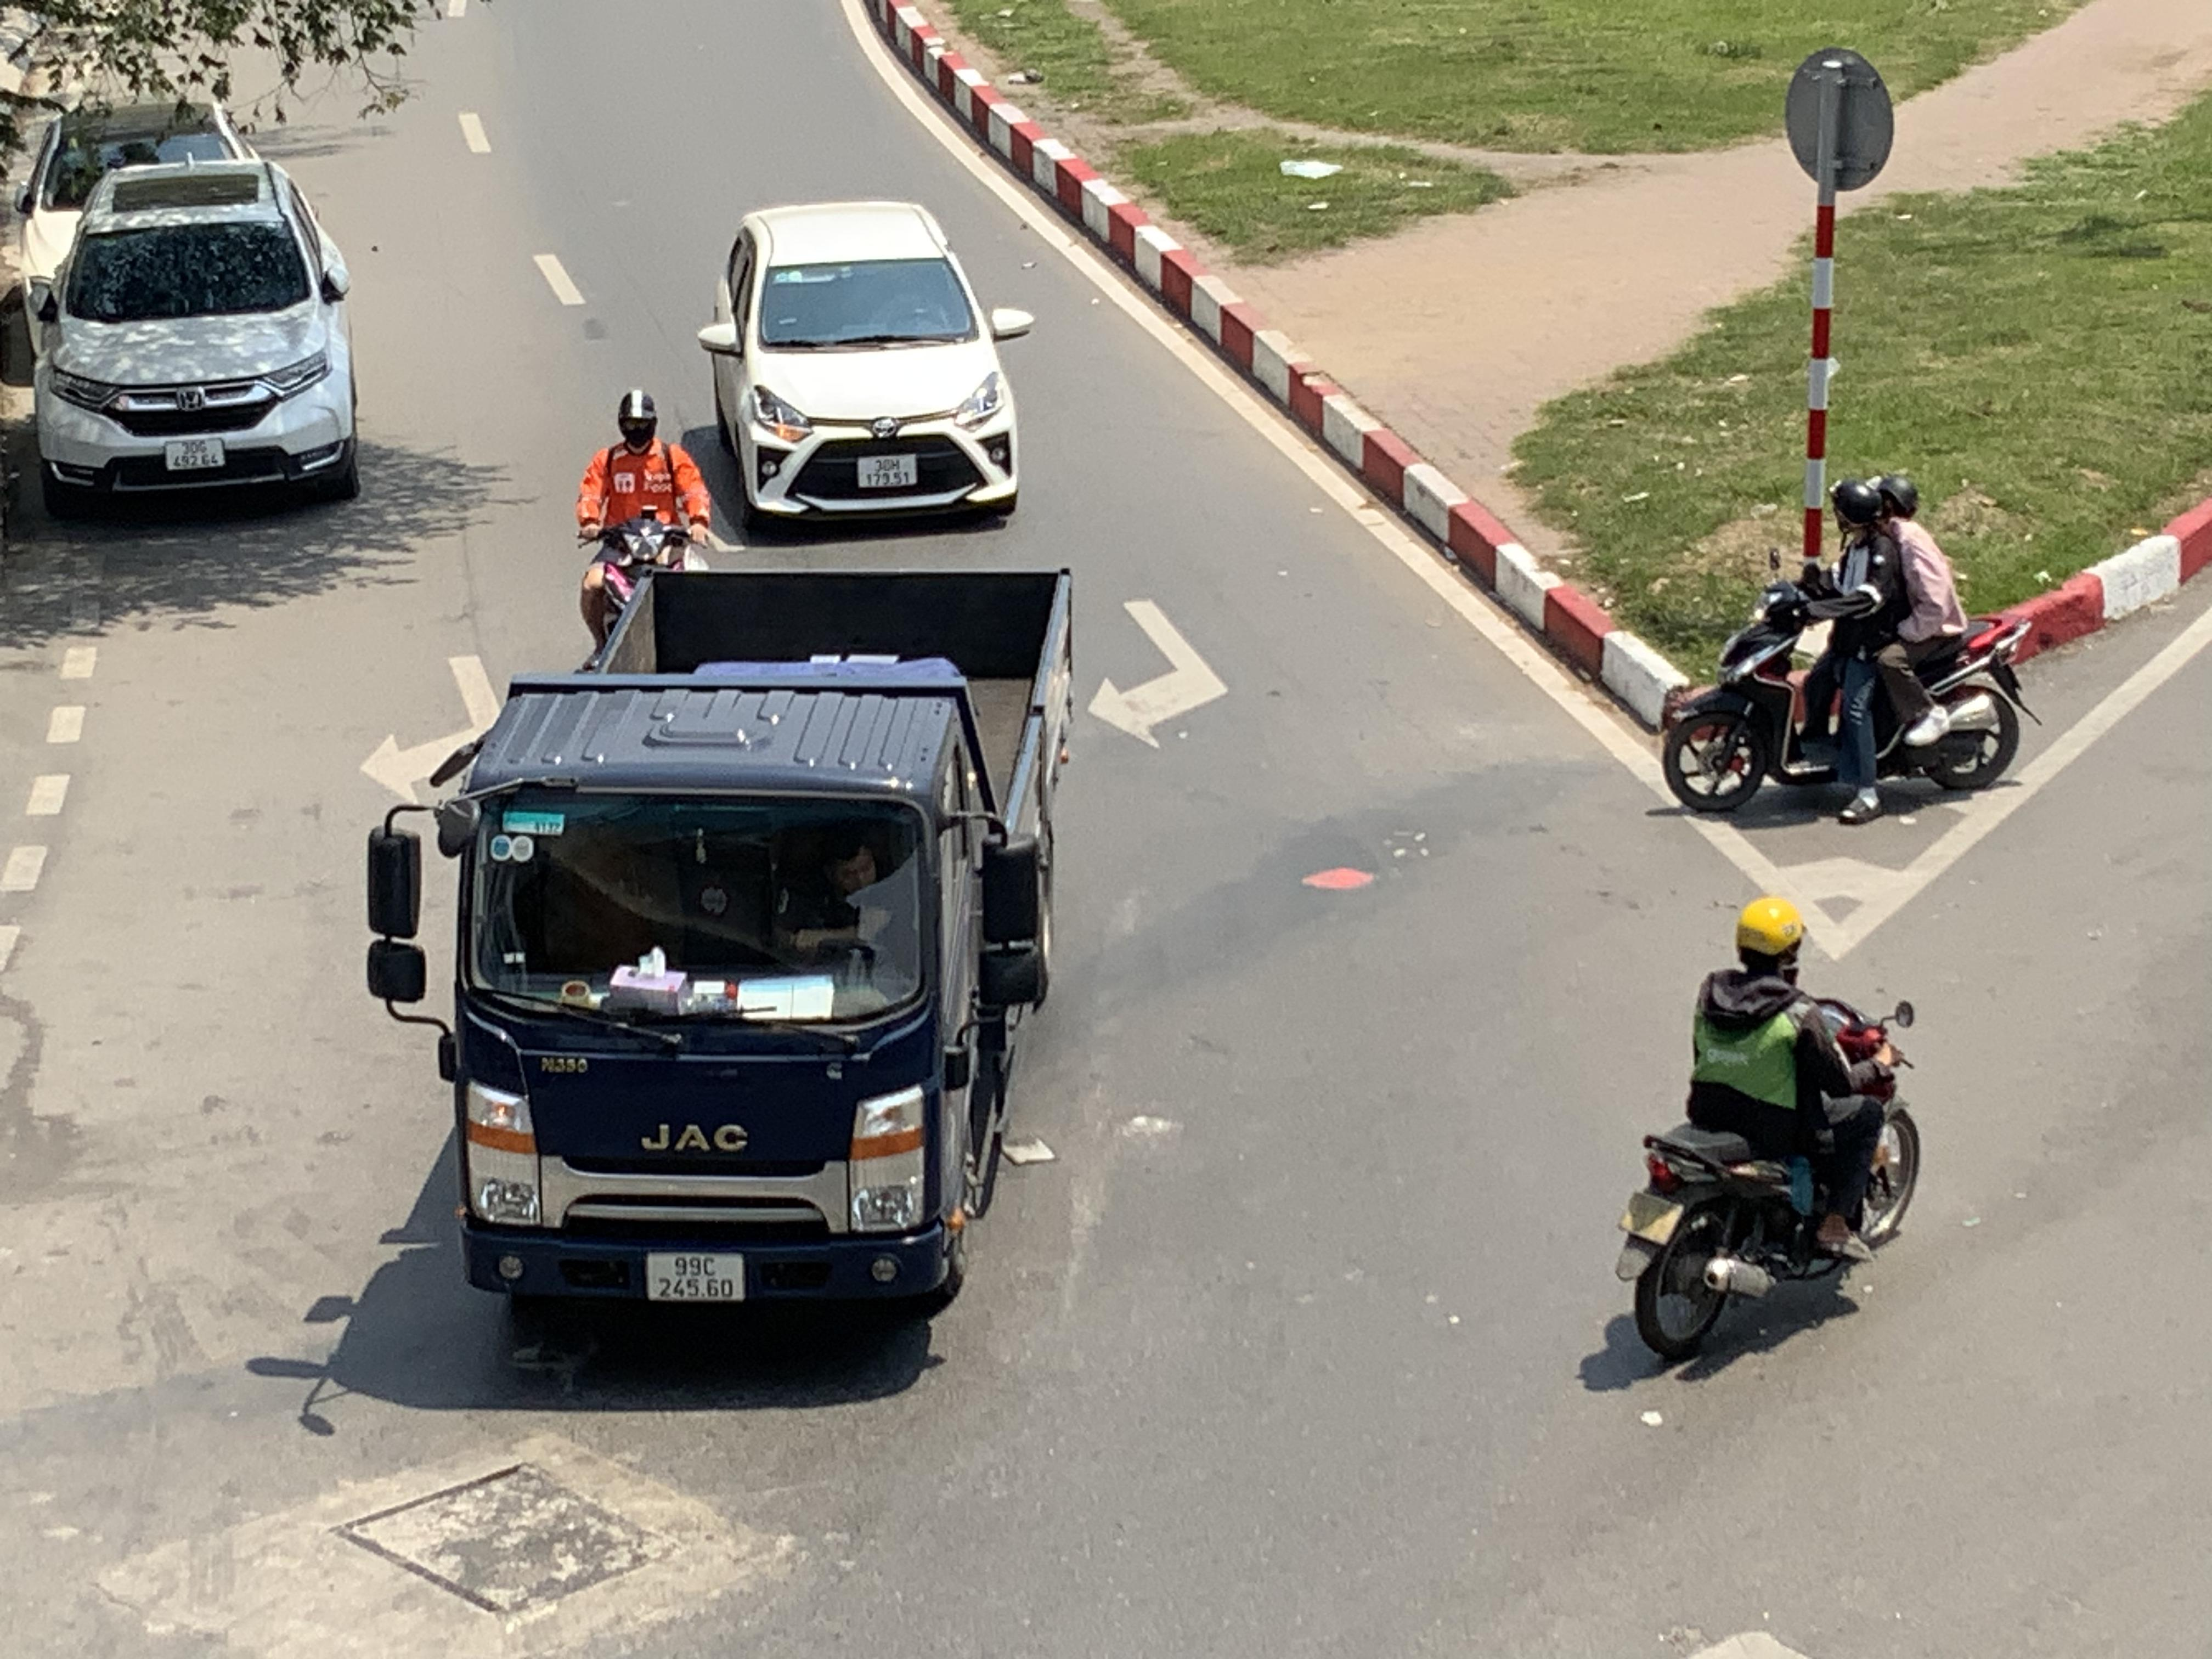BSV: (646, 1255, 745, 1304), (1618, 1192, 1683, 1246), (857, 455, 916, 488), (165, 437, 225, 471)
car: (26, 152, 361, 519), (697, 199, 1035, 535)
motorbike: (1613, 894, 1919, 1366), (1660, 472, 2040, 821), (577, 389, 714, 655)
truck: (364, 561, 1080, 1330)
